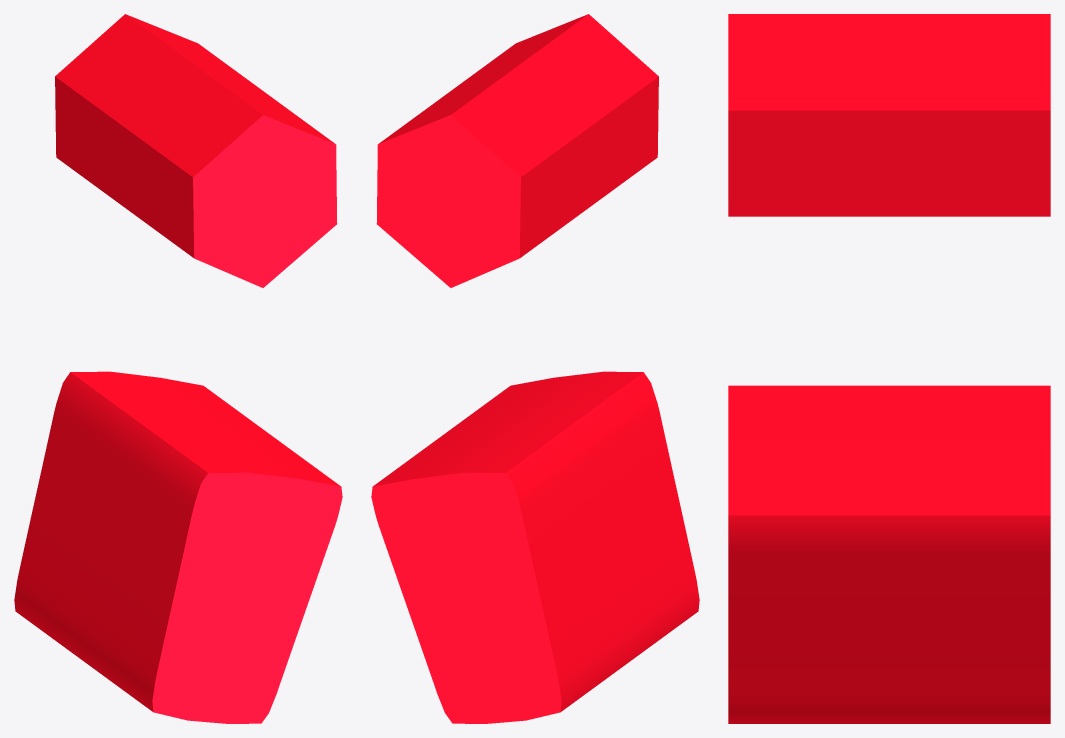
3 renders of one model, left to right at view 1: azimuth 30°, elevation 25°; view 2: azimuth 150°, elevation 25°; view 3: azimuth 270°, elevation 25°, orthographic. The views are drawn at different scales.
Parts seen in each view (by area): view 1: ;_Zyzol_Red; view 2: ;_Zyzol_Red; view 3: ;_Zyzol_Red.
Part boxes in pixels (bbox=[...]): ;_Zyzol_Red: bbox=[14, 14, 342, 723]; ;_Zyzol_Red: bbox=[371, 14, 699, 723]; ;_Zyzol_Red: bbox=[728, 14, 1050, 723].
Size of what is drawn, in the model's own units: 0.0358 by 0.1094 by 0.045.
Materials: 2 (2 with a texture image).
